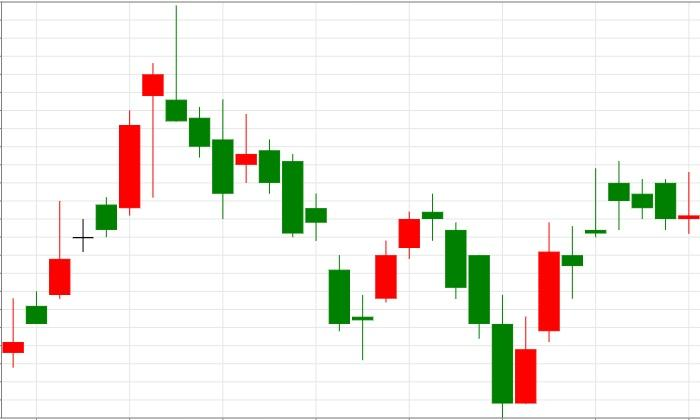evening_star_fall: (165, 5, 397, 360), (352, 194, 466, 359)
hanging_man_fall: (2, 62, 164, 368)
